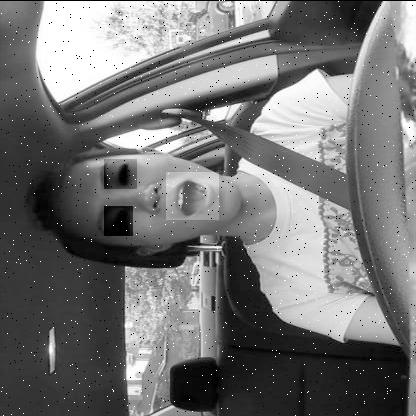seatbelt: (20, 132, 350, 262)
